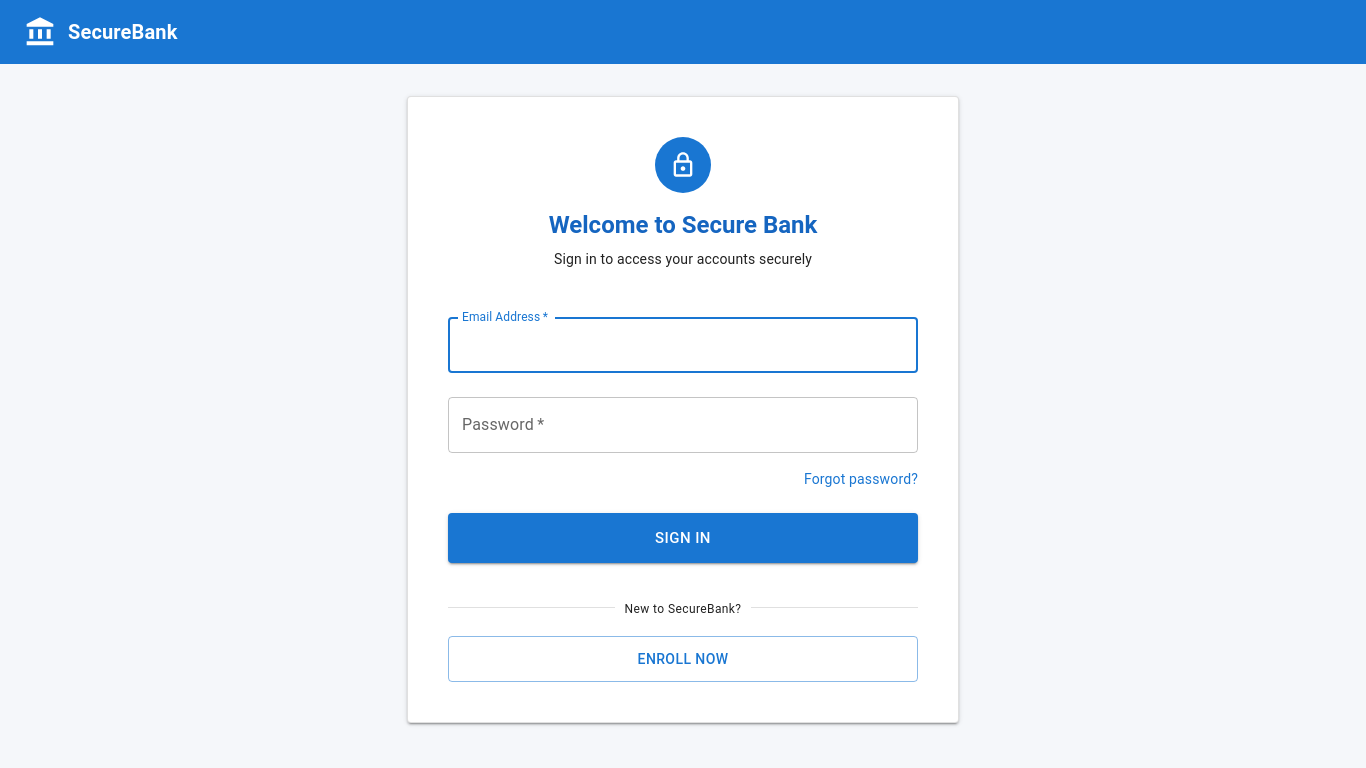
Test: Login Page › shows fallback error on network failure
Type "user@example.com" into the field labelled "Email Address *" at (683, 345), box [448,317,918,373]
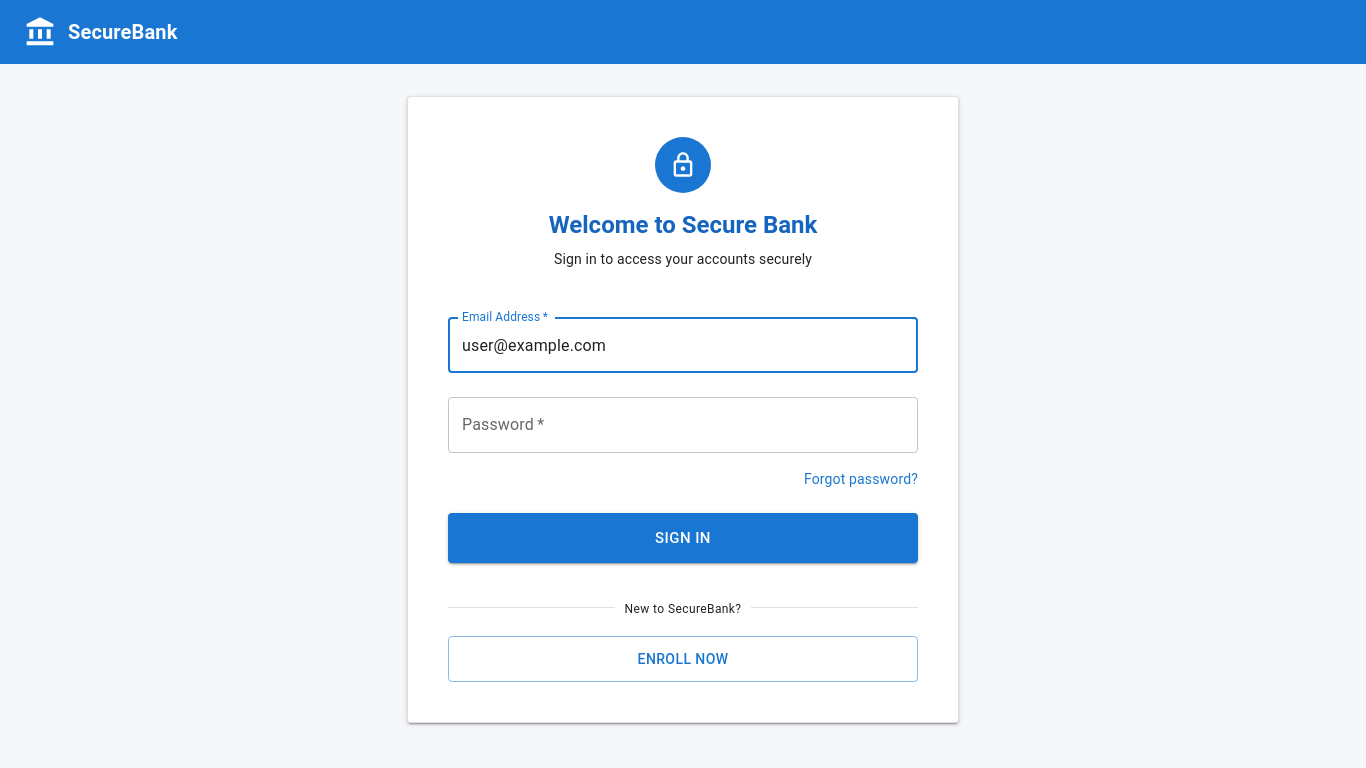
Type "somepass" into the password field labelled "Password *" at (683, 425), box [448,397,918,453]
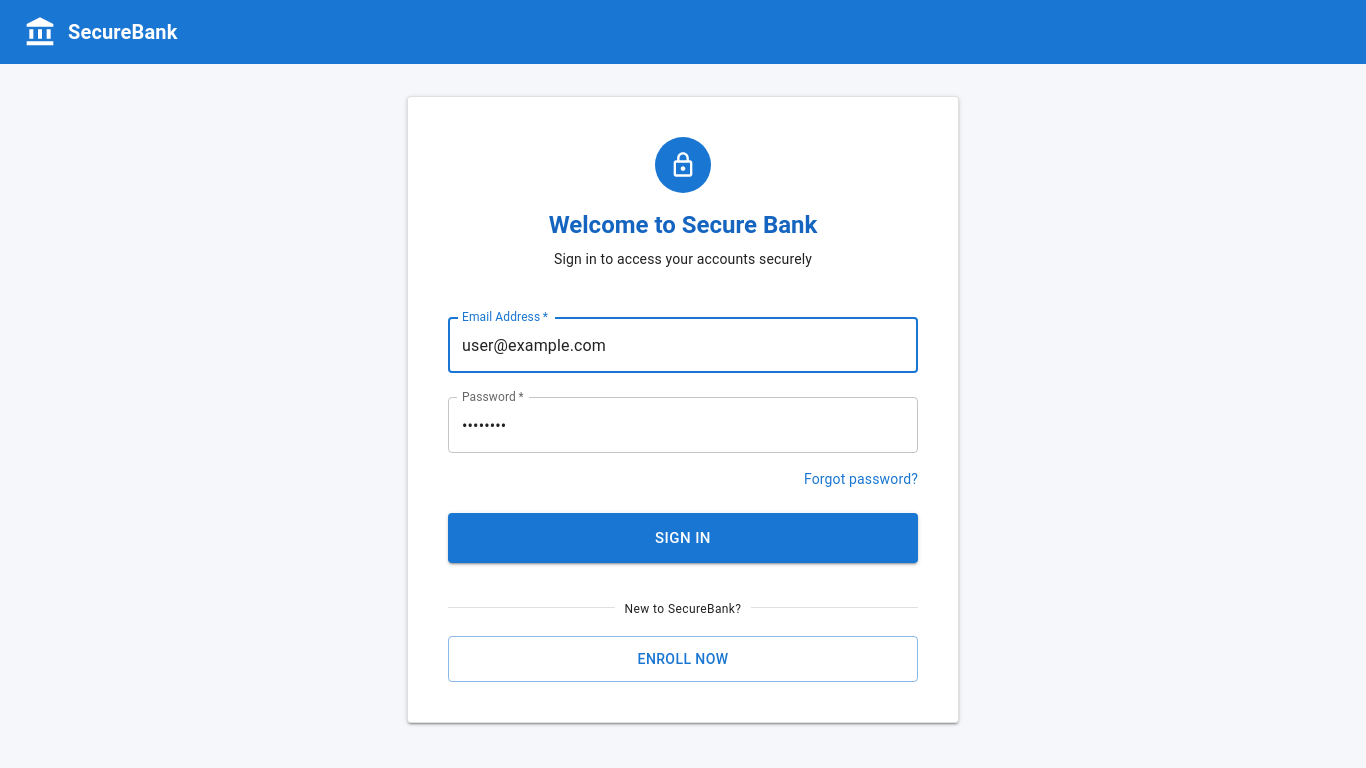
Click the button "Sign In" at (683, 538), box [448,513,918,563]
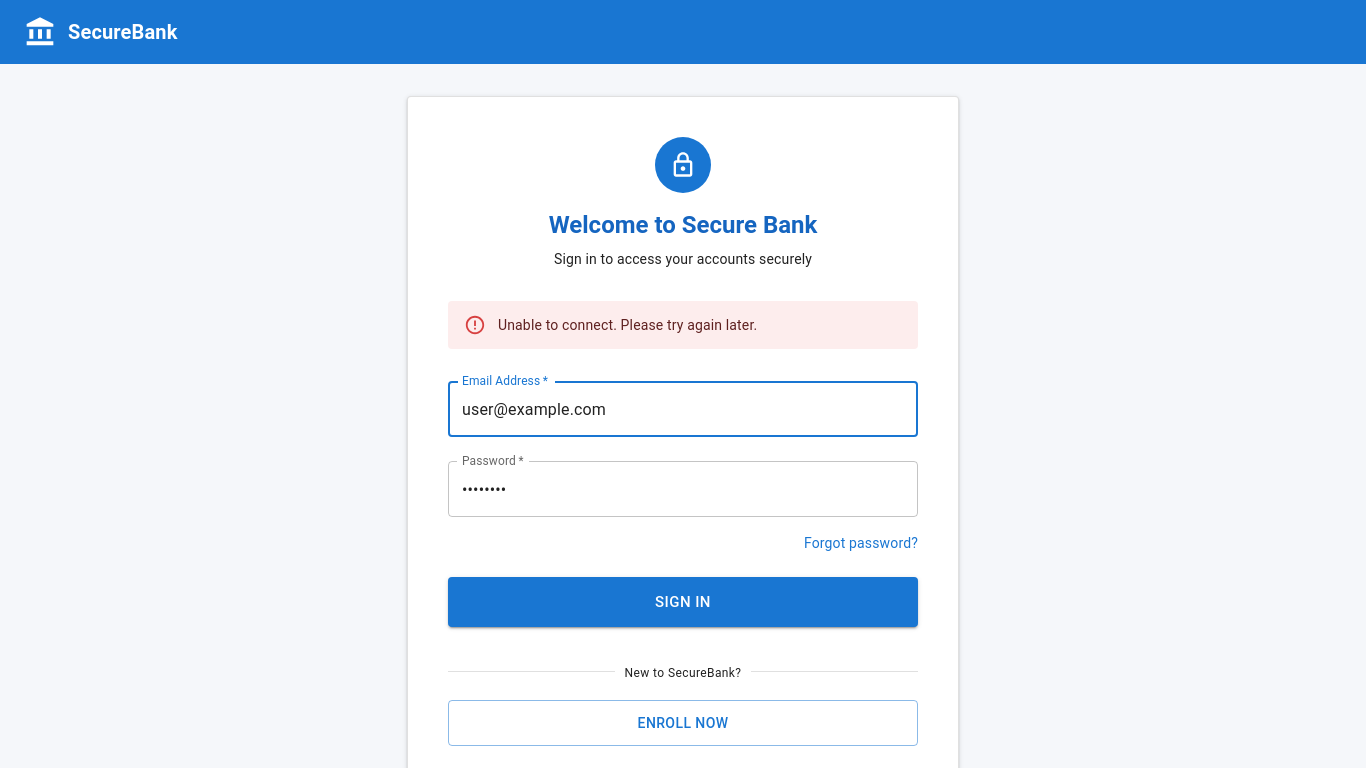
Check: the text "Unable to connect. Please try again later." is shown, box [498,317,757,333]
